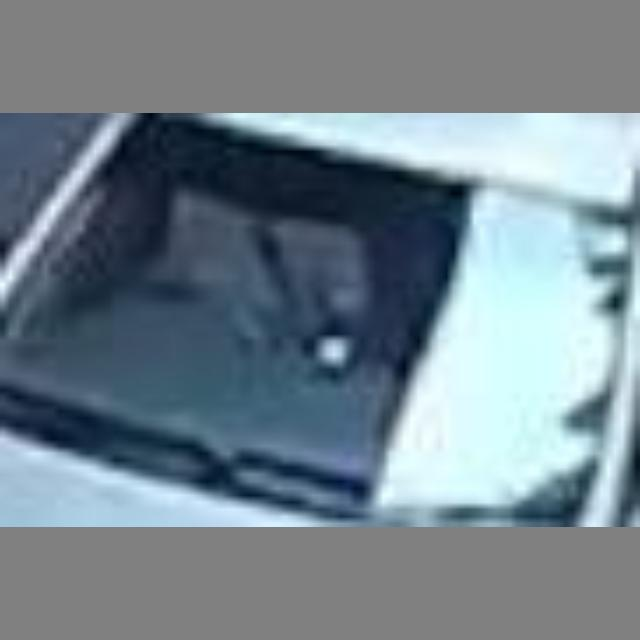pakai: (155, 169, 380, 408)
